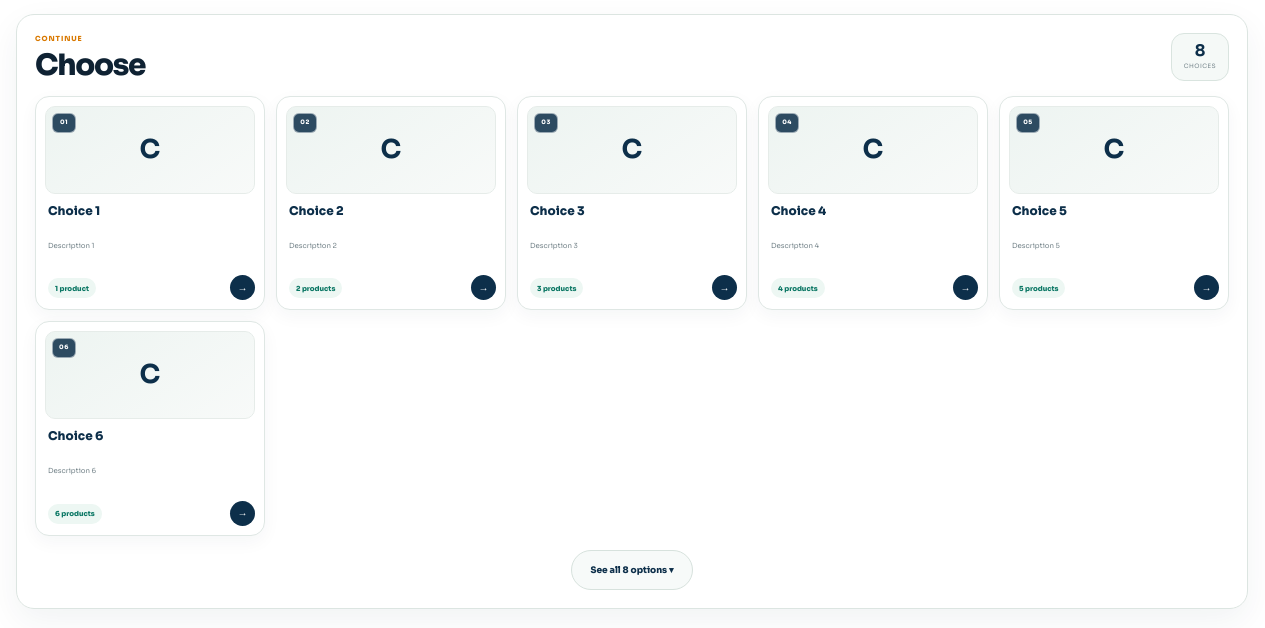
Test: WizardOptionGrid › keeps the existing six-choice cap and reveals the remaining choices on request
This screenshot has width=1265, height=628.
Check: the number of links is 6, box [35,96,265,310]; [276,96,506,310]; [517,96,747,310]; [758,96,988,310]; [999,96,1229,310]; [35,321,265,536]
Click the button "See all 8 options ▾" at (632, 570), box [572,550,693,590]
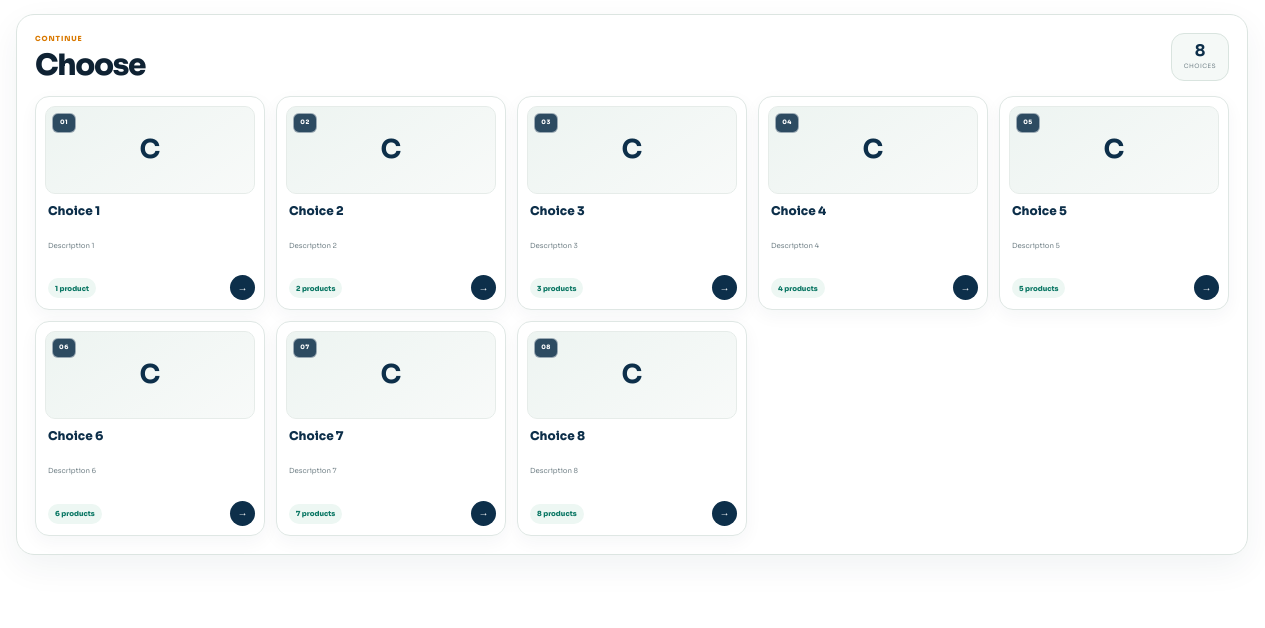
Check: the number of links is 8
